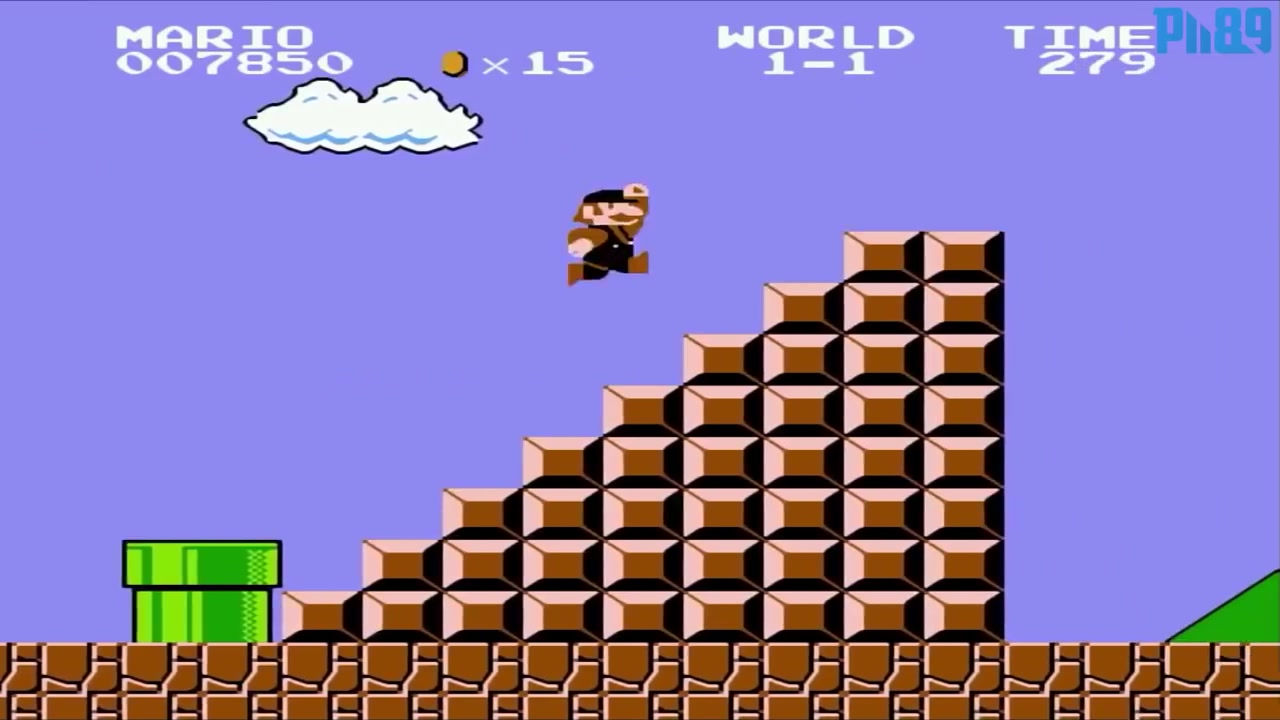mario: (560, 177, 673, 288)
